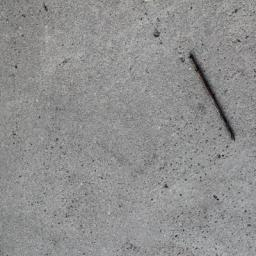FOD: (186, 53, 238, 146)
